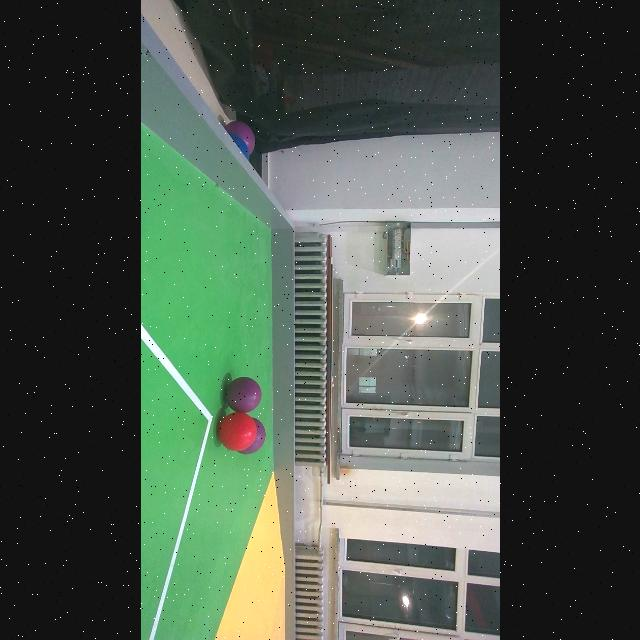P: (224, 377, 262, 413)
R: (218, 412, 256, 451)
